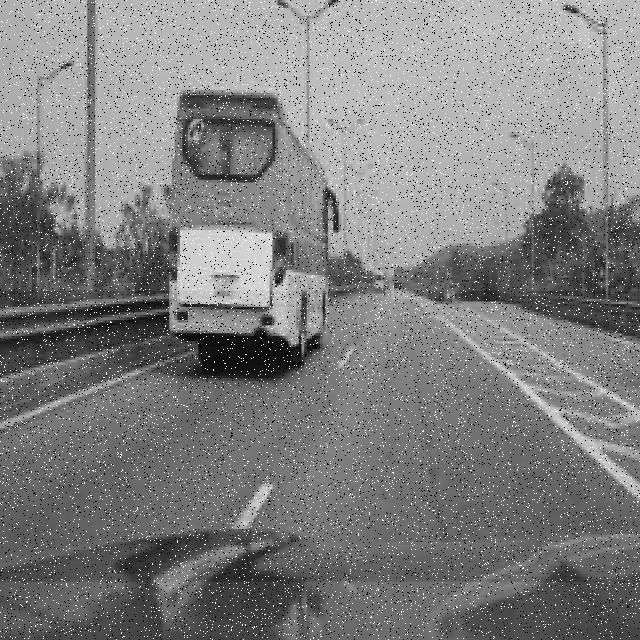clear-road: (0, 292, 640, 571)
